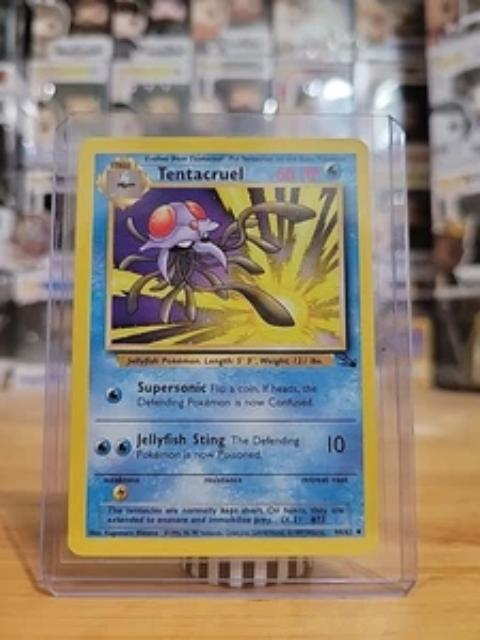Card: (62, 132, 383, 563)
Name: (152, 162, 254, 185)
